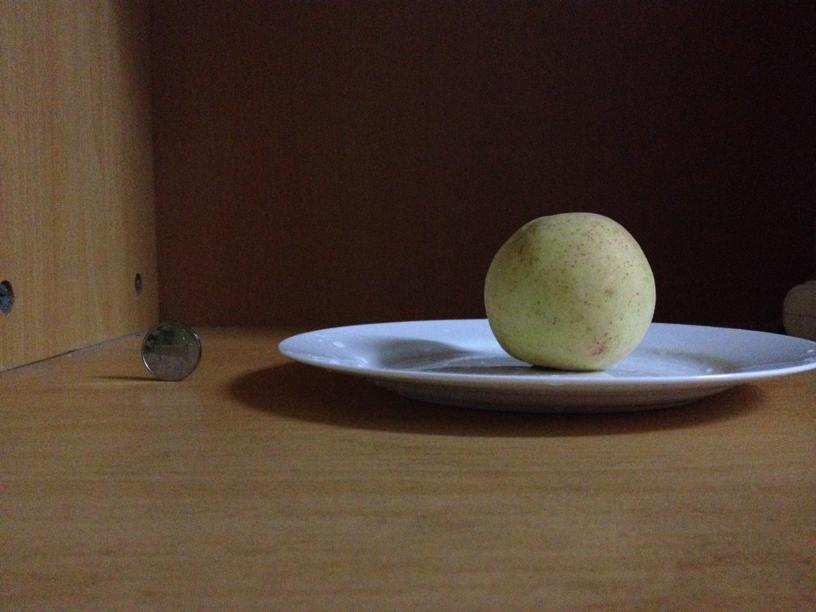coin: (139, 320, 199, 380)
peach: (484, 211, 658, 369)
